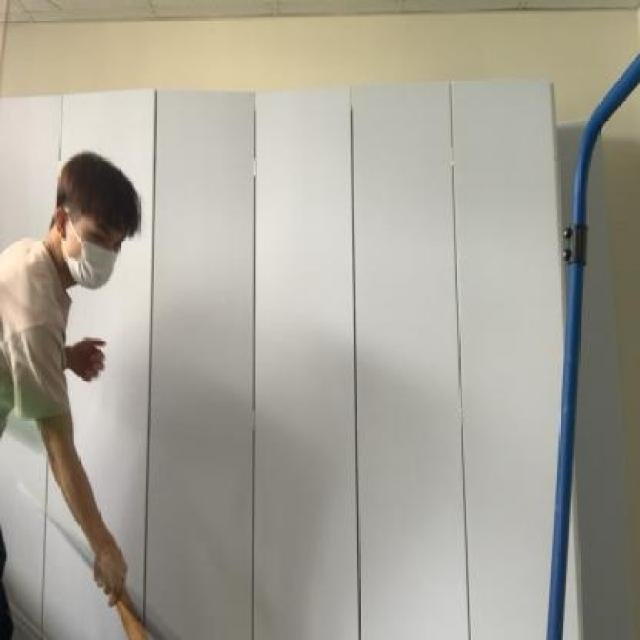baseball: (0, 353, 86, 475)
